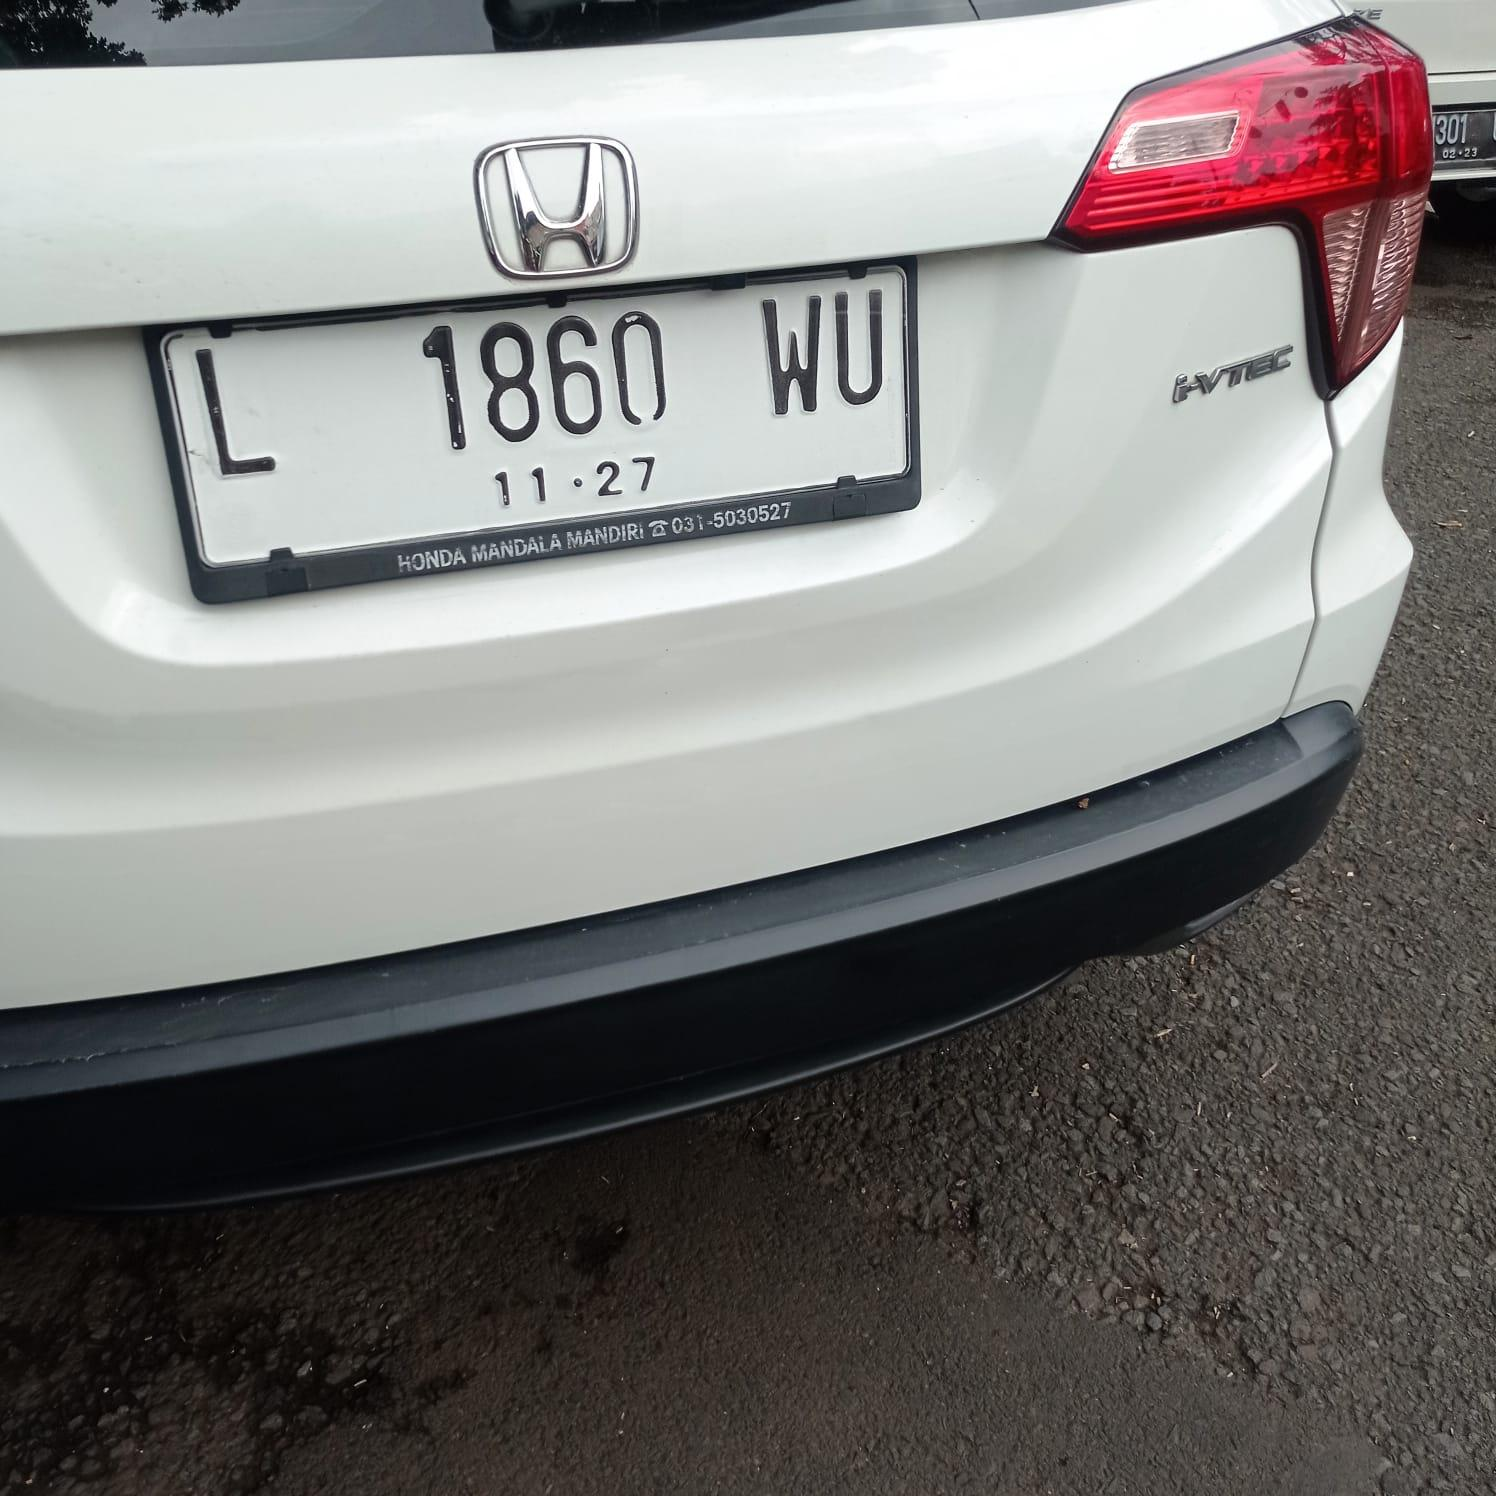plat: (174, 264, 907, 567)
